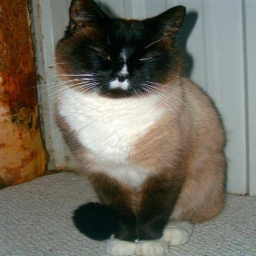cat: (51, 0, 230, 256)
